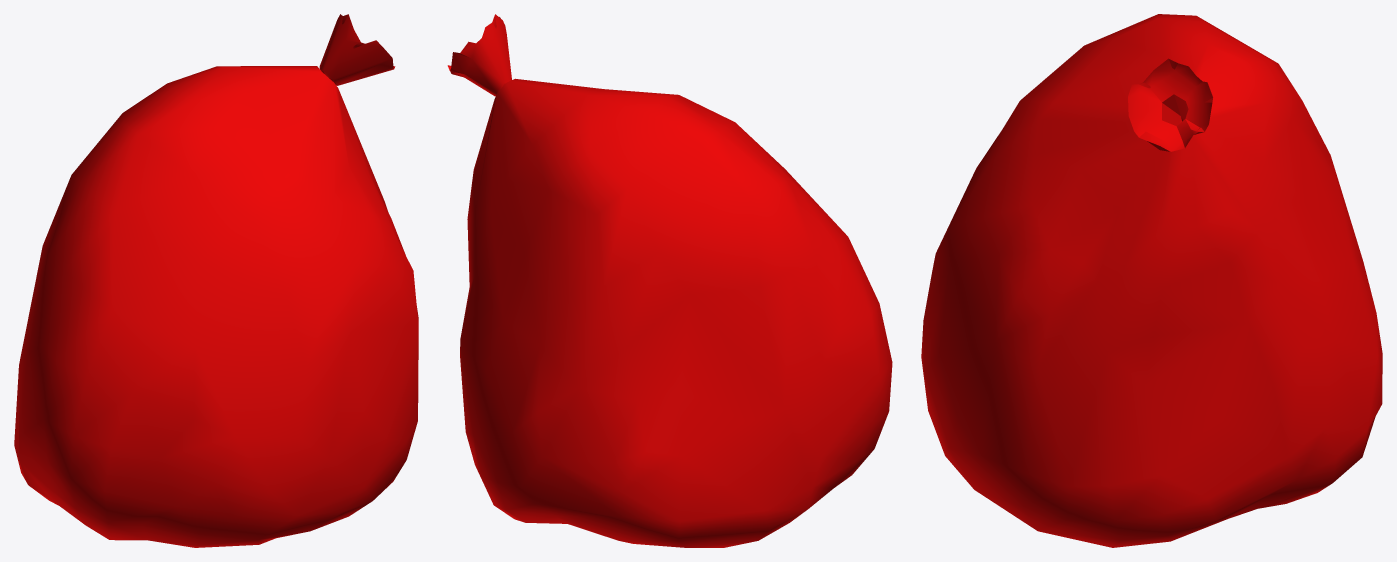
The model's file is garbage_bags_grp.fbx.
3 renders of one model, left to right at view 1: azimuth 30°, elevation 25°; view 2: azimuth 150°, elevation 25°; view 3: azimuth 270°, elevation 25°, orthographic. The views are drawn at different scales.
Visible parts, largest first — view 1: Sphere.040; view 2: Sphere.040; view 3: Sphere.040.
Boxes of the visible parts, x1,y1,x2,y2 form: Sphere.040: [14, 14, 418, 547]; Sphere.040: [447, 14, 892, 547]; Sphere.040: [921, 14, 1382, 547].
Bounding box in the file's own units: 51.99 × 58.13 × 48.29.
